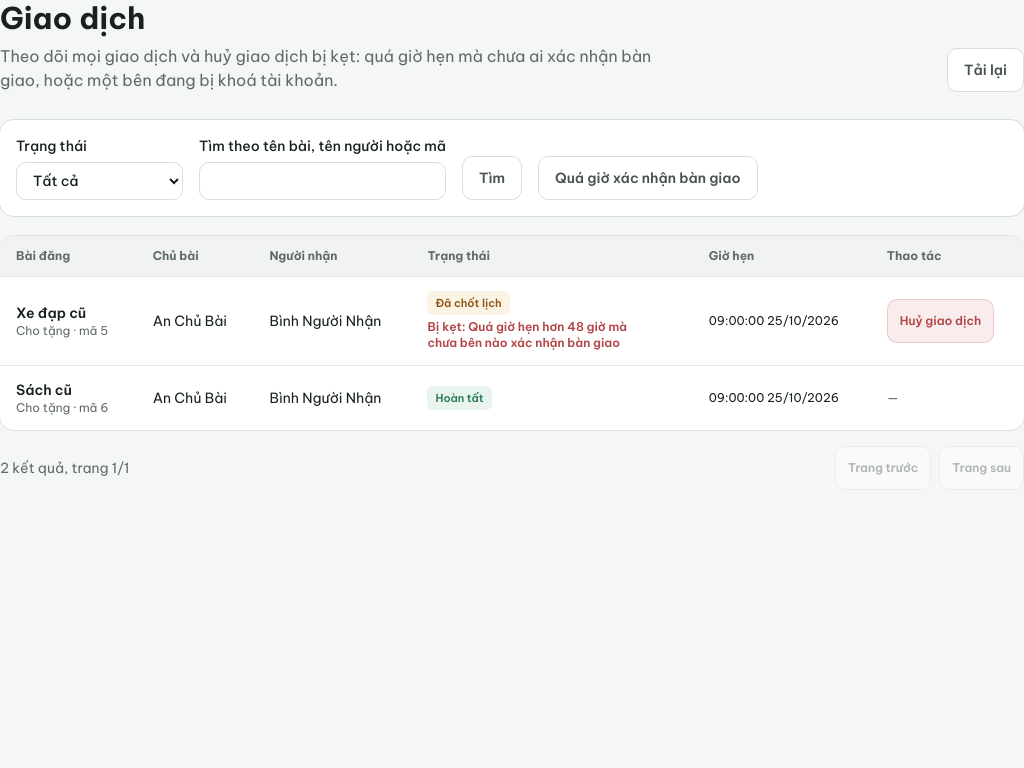
Test: AdminTransactions › hiện lỗi tiếng Việt khi backend trả 409
Expected: the text "Xe đạp cũ" is shown, x1=16 y1=304 x2=86 y2=322
Click the button "Huỷ giao dịch".
click(940, 321)  # box x1=887 y1=299 x2=994 y2=343
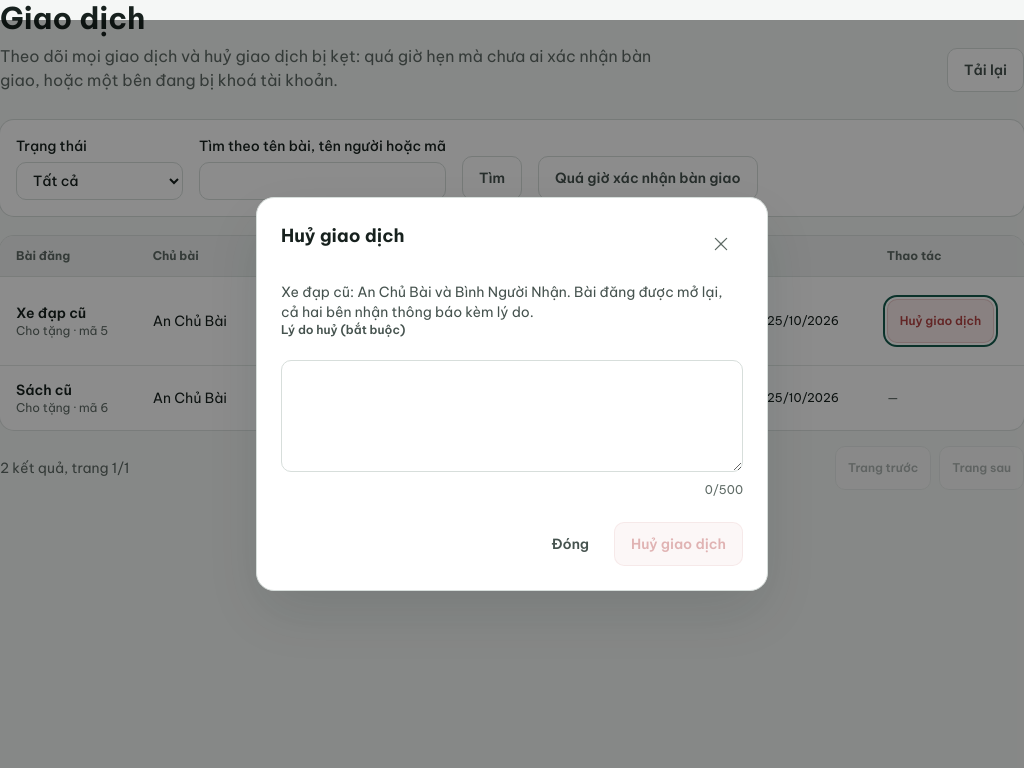
Type "Lý do hợp lệ" into the text box labelled "Lý do huỷ (bắt buộc)".
click(512, 416); type("Lý do hợp lệ")  # box x1=281 y1=360 x2=743 y2=472
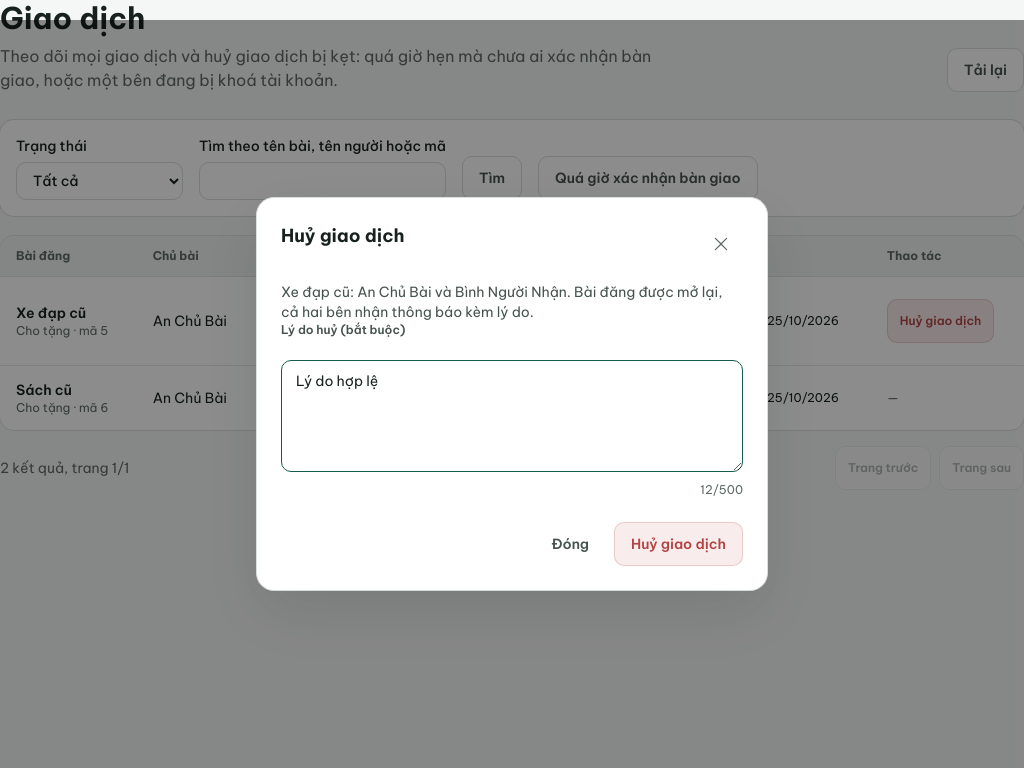
Click the button "Huỷ giao dịch".
click(678, 544)  # box x1=614 y1=522 x2=743 y2=566
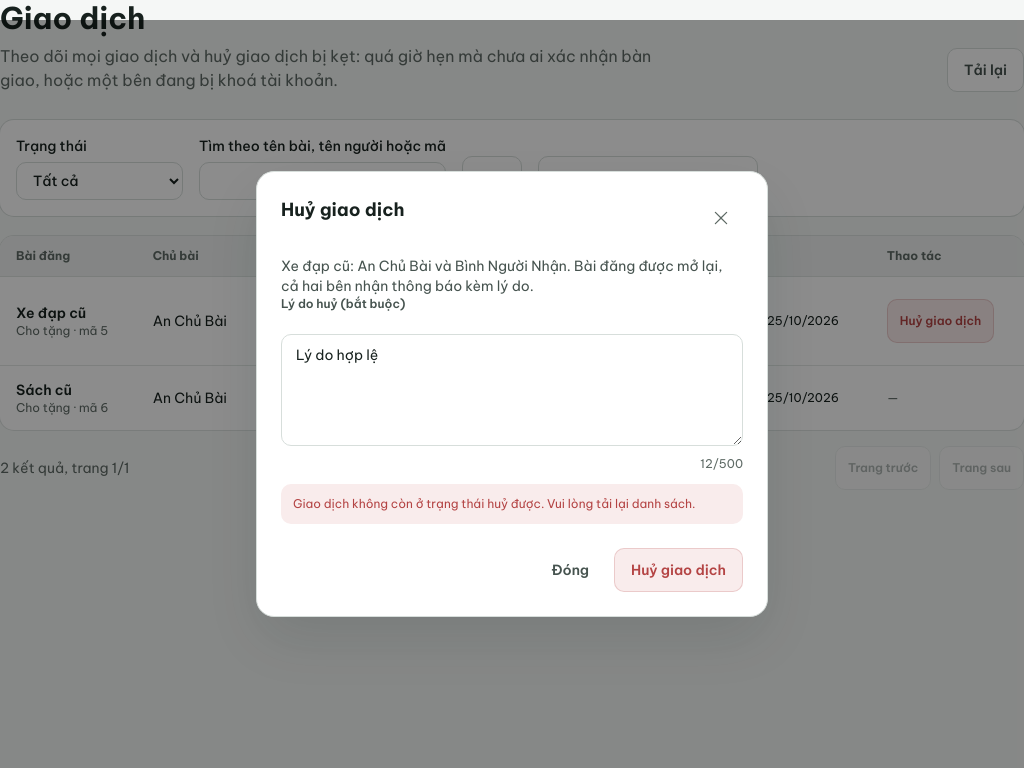
Result: the message "Giao dịch không còn ở trạng thái huỷ được. Vui lòng tải lại danh sách." is shown at x1=281 y1=484 x2=743 y2=524
Result: the message shows "không còn ở trạng thái huỷ được" at x1=293 y1=496 x2=696 y2=511
